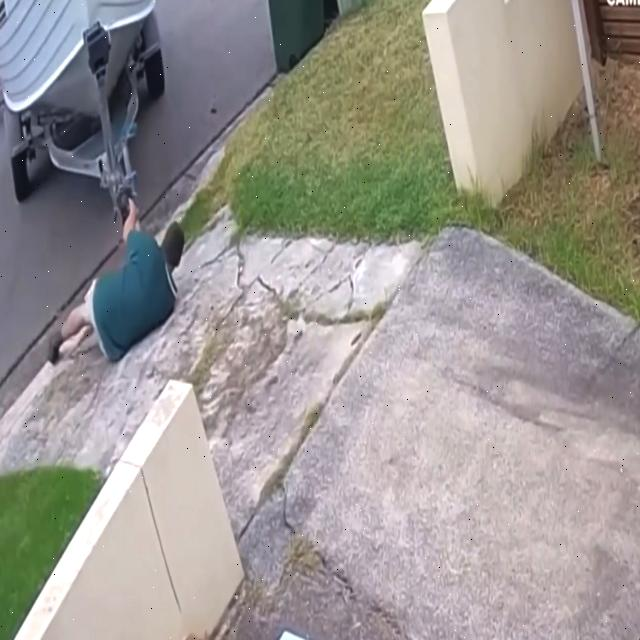fallen: (48, 198, 185, 364)
